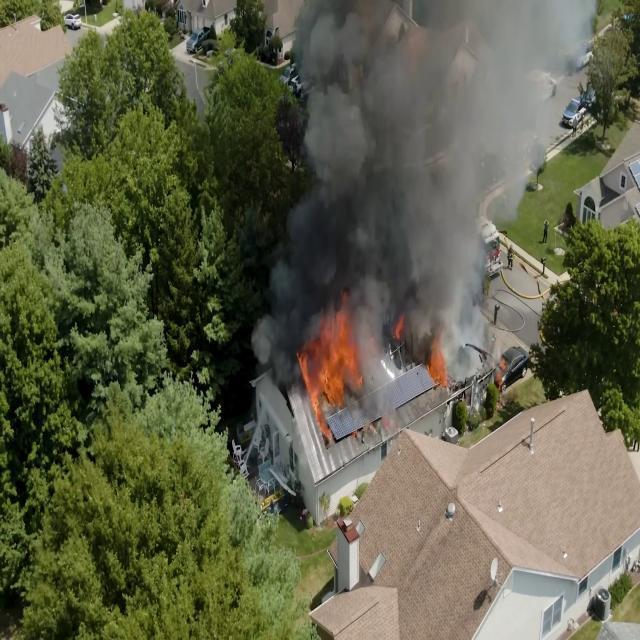Fire: (277, 293, 379, 422)
Smoke: (286, 32, 453, 302), (414, 120, 469, 394)
